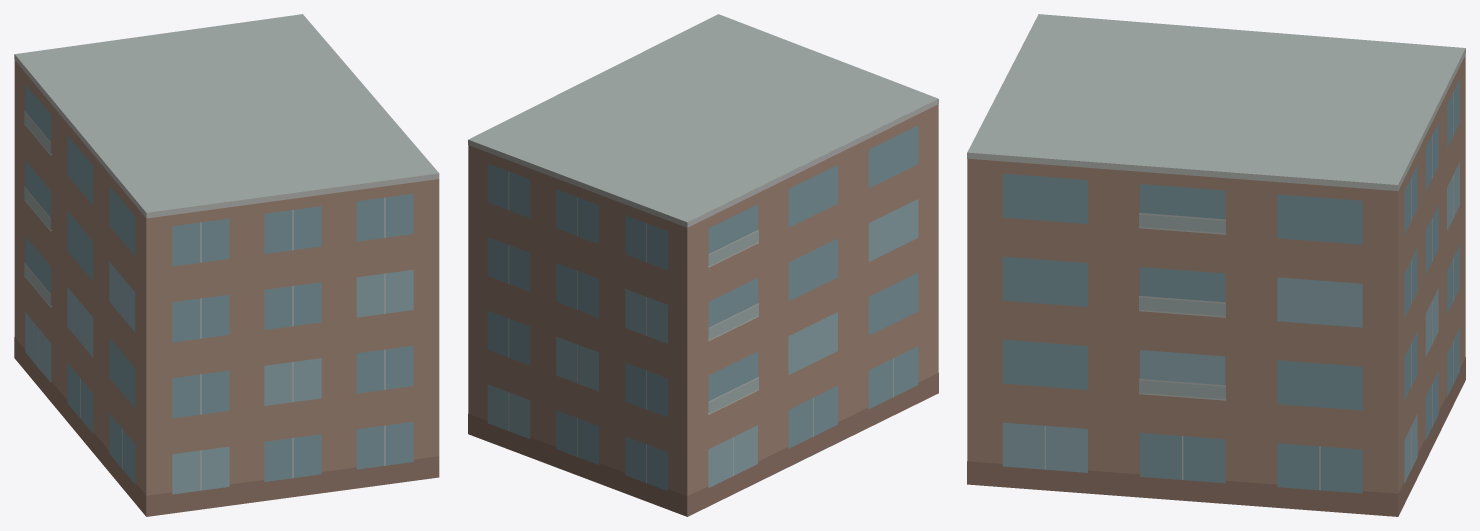
The model's file is survey-upis-32689264.glb.
3 views of the same model, side by side, from view 1: azimuth 30°, elevation 25°; view 2: azimuth 150°, elevation 25°; view 3: azimuth 270°, elevation 25° (orthographic). The views are drawn at different scales.
Visible parts, largest first — view 1: survey-upis-32689264.tmp; view 2: survey-upis-32689264.tmp; view 3: survey-upis-32689264.tmp.
Part boxes in pixels (bbox=[...]): survey-upis-32689264.tmp: bbox=[14, 14, 439, 516]; survey-upis-32689264.tmp: bbox=[468, 14, 938, 516]; survey-upis-32689264.tmp: bbox=[967, 14, 1465, 516].
Size of the model in its own units: 14.71 by 13.3 by 18.13.
